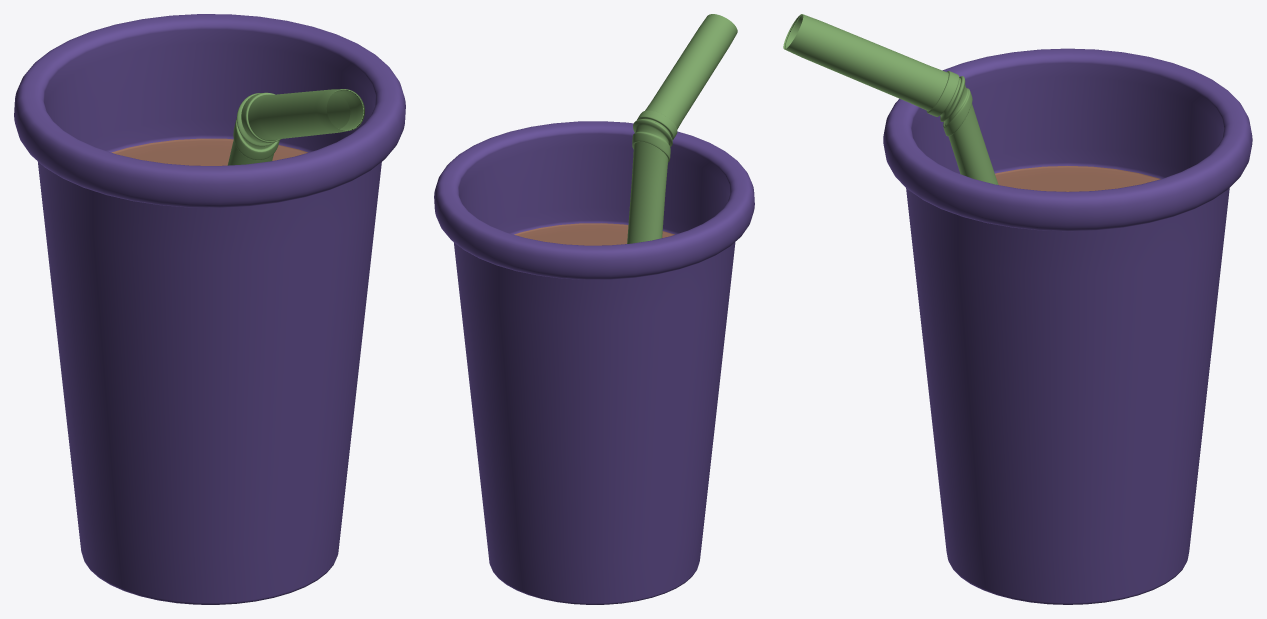
Rendered from VasoGaseosa.fbx.
3 renders of one model, left to right at view 1: azimuth 30°, elevation 25°; view 2: azimuth 150°, elevation 25°; view 3: azimuth 270°, elevation 25°, orthographic. The views are drawn at different scales.
Parts seen in each view (by area): view 1: Vaso, Bombilla; view 2: Vaso, Bombilla; view 3: Vaso, Bombilla.
Part boxes in pixels (x1,y1,x2,y2): Vaso: (14,14,405,604); Bombilla: (227,89,364,165); Vaso: (434,121,754,604); Bombilla: (627,14,737,243); Vaso: (883,48,1252,604); Bombilla: (783,14,998,184).
Size of the model in its own units: 0.7222 by 1.15 by 0.9173.
